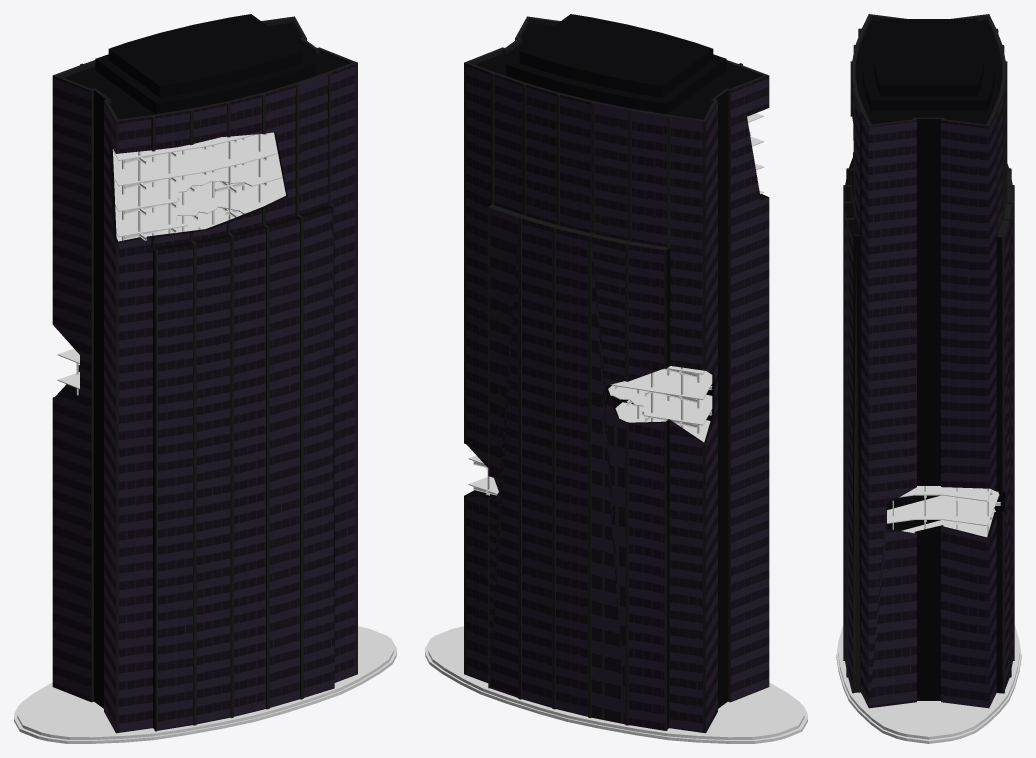
File: Tour-Montparnasse.fbx
3 renders of one model, left to right at view 1: azimuth 30°, elevation 25°; view 2: azimuth 150°, elevation 25°; view 3: azimuth 270°, elevation 25°, orthographic. The views are drawn at different scales.
Visible parts, largest first — view 1: Tour-Montparnasse, Base-tour, Plancher001, Plancher003, Plancher002, Plancher017, Plancher004; view 2: Tour-Montparnasse, Base-tour, Plancher007, Plancher008, Plancher006; view 3: Tour-Montparnasse, Base-tour, Plancher015, Plancher012, Plancher016.
Part boxes in pixels (x1,y1,x2,y2): Tour-Montparnasse: [52, 14, 357, 733]; Base-tour: [14, 626, 396, 743]; Plancher001: [115, 178, 285, 236]; Plancher003: [113, 132, 277, 186]; Plancher002: [114, 154, 282, 211]; Plancher017: [116, 207, 242, 241]; Plancher004: [112, 134, 256, 160]; Tour-Montparnasse: [464, 14, 769, 733]; Base-tour: [425, 626, 807, 743]; Plancher007: [608, 385, 712, 425]; Plancher008: [610, 369, 712, 399]; Plancher006: [615, 402, 710, 442]; Tour-Montparnasse: [843, 14, 1014, 708]; Base-tour: [836, 624, 1021, 743]; Plancher015: [887, 489, 999, 525]; Plancher012: [899, 486, 991, 501]; Plancher016: [901, 508, 995, 537].
Size of the model in its own units: 133 by 218 by 60.37.
Materials: 3 (1 with a texture image).
